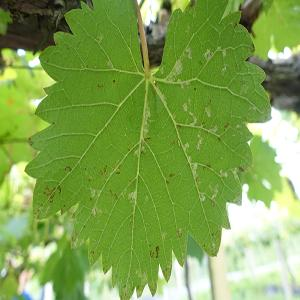Folha: (24, 0, 272, 298)
Fungo: (206, 122, 232, 140), (142, 102, 152, 141), (42, 184, 61, 203), (33, 202, 49, 220), (233, 164, 251, 179), (172, 58, 184, 80), (182, 142, 193, 163), (136, 267, 148, 286), (95, 162, 109, 178), (218, 41, 229, 60), (70, 232, 84, 246), (192, 160, 200, 184), (148, 243, 160, 259), (186, 112, 198, 128), (211, 183, 220, 204), (164, 171, 176, 185), (89, 188, 101, 201), (238, 85, 250, 98), (203, 45, 212, 62), (129, 190, 137, 206), (197, 189, 206, 203), (220, 65, 229, 79), (163, 266, 173, 278), (205, 102, 213, 117), (195, 134, 202, 150), (114, 162, 123, 174), (219, 167, 227, 180), (109, 188, 117, 200), (204, 162, 212, 171), (176, 227, 182, 238), (64, 164, 72, 172), (155, 244, 159, 258), (97, 82, 103, 88), (57, 186, 61, 194), (183, 104, 188, 110)
